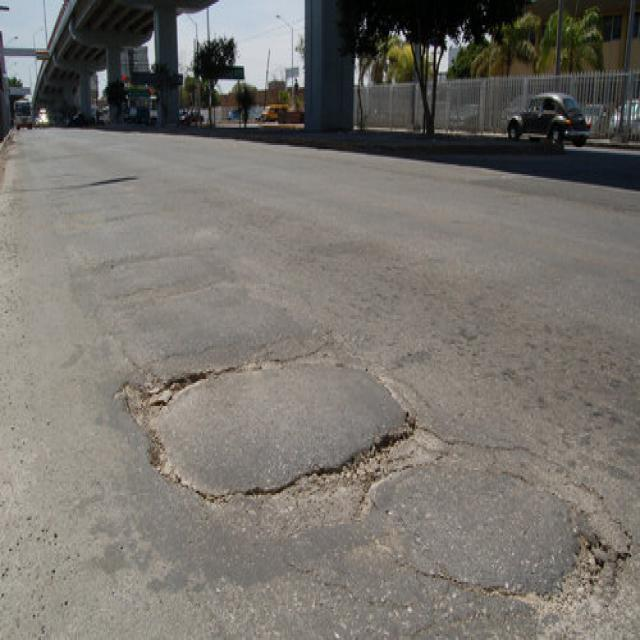pothole: (99, 283, 447, 538)
